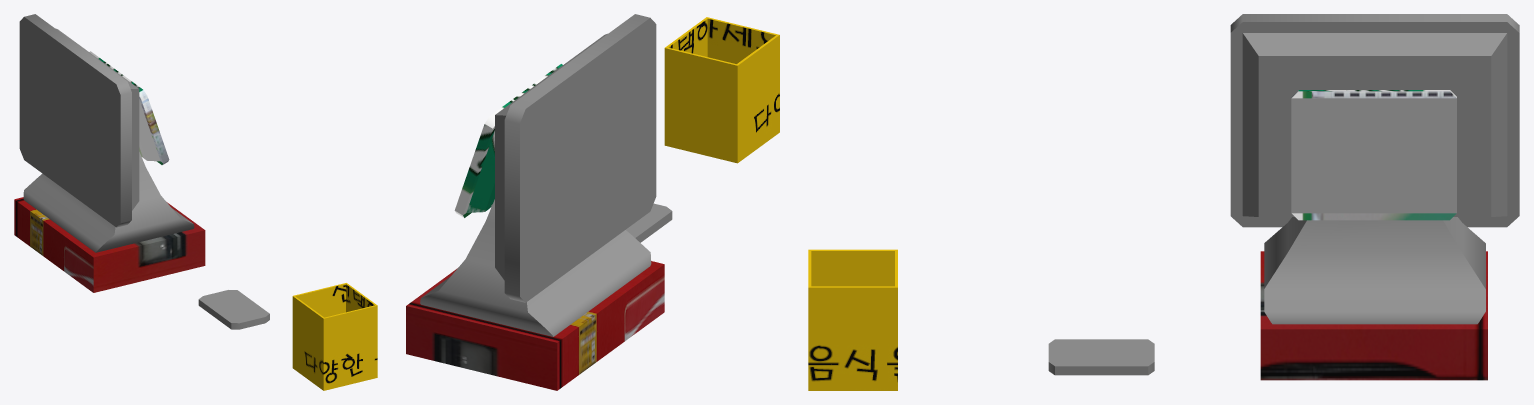
File: Computer.FBX
The picture shows the model from 3 angles, left to right: view 1: azimuth 30°, elevation 25°; view 2: azimuth 150°, elevation 25°; view 3: azimuth 270°, elevation 25°; orthographic projection. The views are drawn at different scales.
Parts seen in each view (by area): view 1: pc_signboard, Object191; view 2: pc_signboard, Object191; view 3: pc_signboard, Object191.
Boxes of the visible parts, <box> form: pc_signboard: <box>14,14,269,329</box>; Object191: <box>292,283,377,390</box>; pc_signboard: <box>406,14,672,390</box>; Object191: <box>664,17,779,163</box>; pc_signboard: <box>1048,14,1519,380</box>; Object191: <box>808,249,897,390</box>.
Bounding box in the file's own units: 25.51 × 40.33 × 86.6.
